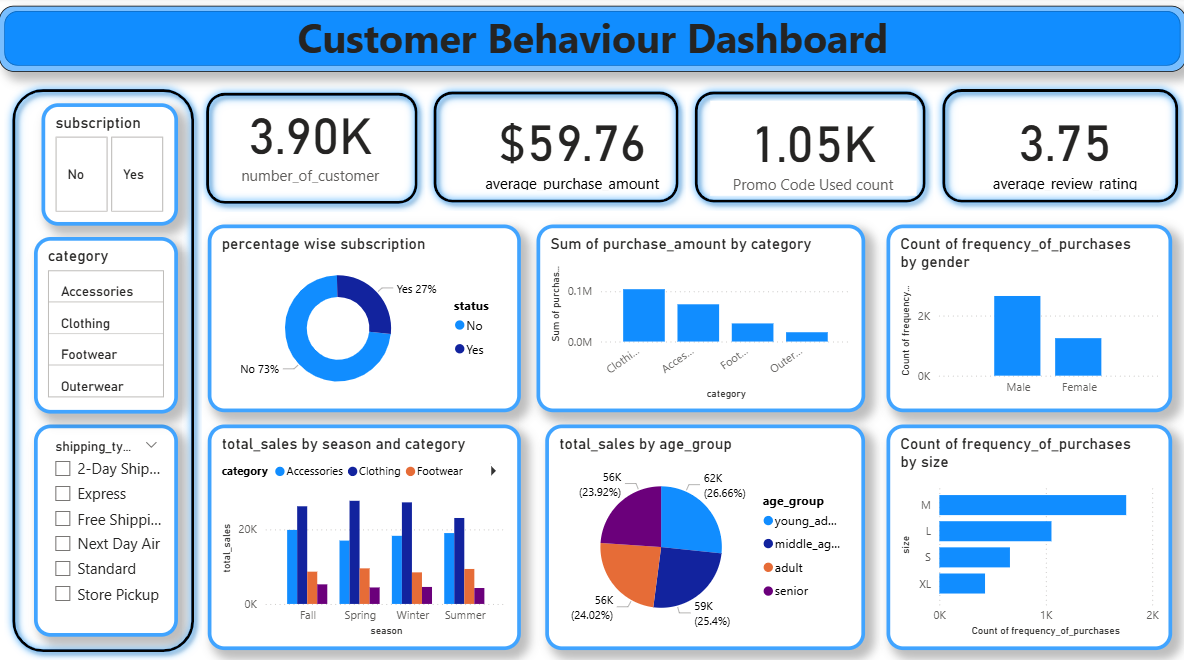

The dashboard page shown, as its layout file describes it:
{"tool":"powerbi","page":{"name":"Page 1","canvas":[1280,720],"ordinal":0},"visuals":[{"type":"card","fields":{"Values":["public customer.average_purchase_amount"]},"box":[494.4,111.1,247.2,102.8],"z":0},{"type":"card","fields":{"Values":["public customer.average_review_rating"]},"box":[1033.3,111.1,231.9,102.8],"z":1000},{"type":"card","fields":{"Values":["public customer.number_of_customer"]},"box":[219.4,102.8,231.9,102.8],"z":2000},{"type":"shape","box":[0,9.1,1280.3,71.2],"z":3000},{"type":"textbox","box":[0,9.1,1280.3,66.7],"z":4000},{"type":"shape","box":[459.7,93.1,281.9,137.5],"z":13000},{"type":"shape","box":[5.6,90.3,213.9,625],"z":13002},{"type":"shape","box":[213.9,94.4,245.8,137.5],"z":13003},{"type":"shape","box":[741.7,93.1,266.7,137.5],"z":13004},{"type":"card","fields":{"Values":["public customer.Promo Code Used count"]},"box":[766.7,112.5,222.2,102.8],"z":13005},{"type":"shape","box":[1008.3,90.3,272.2,140.3],"z":13006},{"type":"donutChart","title":"percentage wise subscription","fields":{"Category":["public customer.subscription_status"],"Y":["CountNonNull(public customer.customer_id)"]},"box":[225,245.8,337.5,202.8],"z":13007},{"type":"clusteredColumnChart","fields":{"Category":["public customer.category"],"Y":["Sum(public customer.purchase_amount)"]},"box":[579.2,245.8,354.2,202.8],"z":13008},{"type":"clusteredColumnChart","fields":{"Category":["public customer.gender"],"Y":["CountNonNull(public customer.frequency_of_purchases)"]},"box":[956.9,245.8,308.3,202.8],"z":13009},{"type":"clusteredBarChart","fields":{"Category":["public customer.size","public customer.color"],"Y":["CountNonNull(public customer.frequency_of_purchases)"]},"box":[956.9,461.1,308.3,243.1],"z":13010},{"type":"clusteredColumnChart","fields":{"Category":["public customer.season"],"Y":["public customer.total_sales"],"Series":["public customer.category"]},"box":[225,461.1,337.5,243.1],"z":13011},{"type":"pieChart","fields":{"Category":["public customer.age_group"],"Y":["public customer.total_sales"]},"box":[588.9,461.1,344.4,243.1],"z":13012},{"type":"slicer","fields":{"Values":["public customer.shipping_type"]},"box":[37.5,461.1,155.6,229.2],"z":13013},{"type":"advancedSlicerVisual","title":"subscription","fields":{"Values":["public customer.subscription_status"]},"box":[45.8,113.9,147.2,131.9],"z":13014},{"type":"advancedSlicerVisual","fields":{"Values":["public customer.category"]},"box":[37.5,258.3,155.6,190.3],"z":13015}]}

Visuals, with their boxes in screenshot pixels (x1, y1, x2, y2), scaled from the page's 1280x720 canvas onto the 1184x660 screenshot:
card - public customer.average_purchase_amount: <box>457,102,686,196</box>
card - public customer.average_review_rating: <box>956,102,1170,196</box>
card - public customer.number_of_customer: <box>203,94,417,188</box>
shape: <box>0,8,1183,74</box>
textbox: <box>0,8,1183,69</box>
shape: <box>425,85,686,211</box>
shape: <box>5,83,203,656</box>
shape: <box>198,87,425,213</box>
shape: <box>686,85,933,211</box>
card - public customer.Promo Code Used count: <box>709,103,915,197</box>
shape: <box>933,83,1183,211</box>
"percentage wise subscription" donutChart: <box>208,225,520,411</box>
clusteredColumnChart - public customer.category x Sum(public customer.purchase_amount): <box>536,225,863,411</box>
clusteredColumnChart - public customer.gender x CountNonNull(public customer.frequency_of_purchases): <box>885,225,1170,411</box>
clusteredBarChart - public customer.size x public customer.color: <box>885,423,1170,646</box>
clusteredColumnChart - public customer.season x public customer.total_sales: <box>208,423,520,646</box>
pieChart - public customer.age_group x public customer.total_sales: <box>545,423,863,646</box>
slicer - public customer.shipping_type: <box>35,423,179,633</box>
"subscription" advancedSlicerVisual: <box>42,104,179,225</box>
advancedSlicerVisual - public customer.category: <box>35,237,179,411</box>
